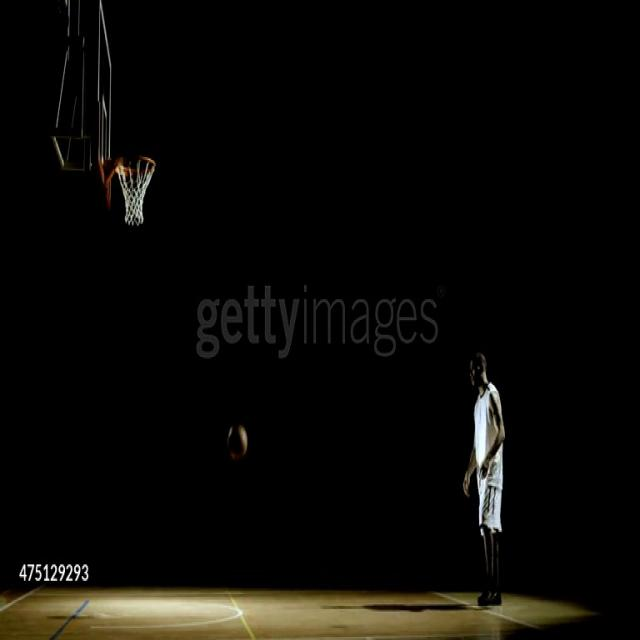ball: (226, 422, 248, 462)
